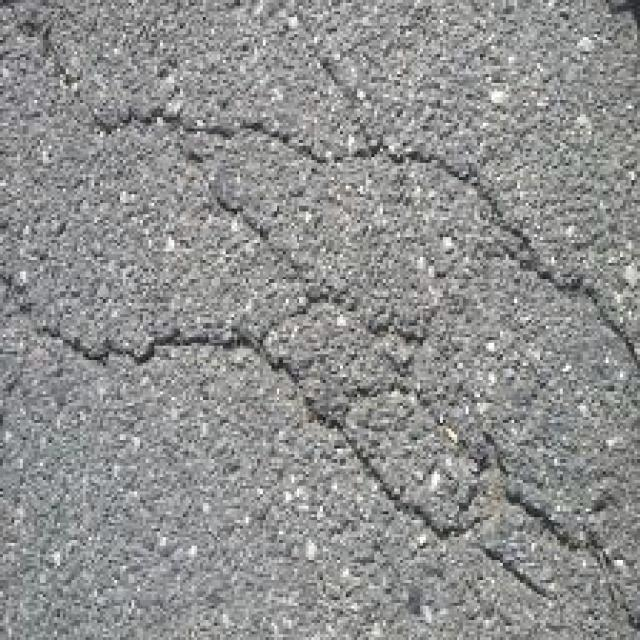SurfaceCrack: (0, 290, 626, 640), (32, 76, 640, 368)
